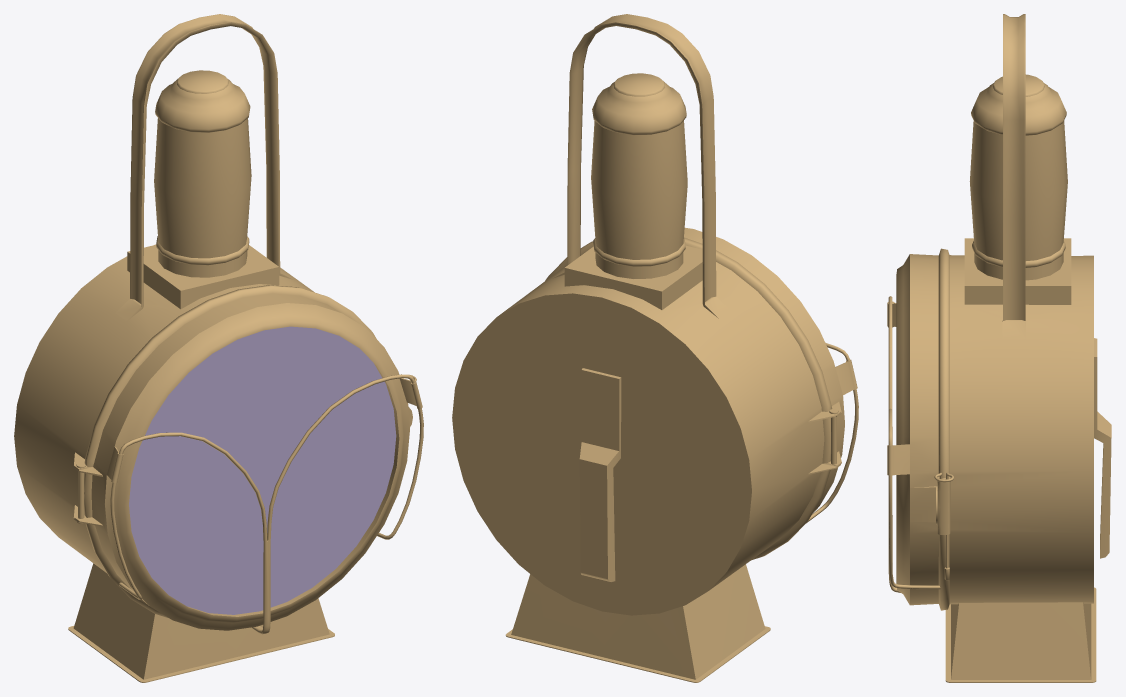
The model's file is lantern19.fbx.
3 views of the same model, side by side, from view 1: azimuth 30°, elevation 25°; view 2: azimuth 150°, elevation 25°; view 3: azimuth 270°, elevation 25° (orthographic).
Visible parts, largest first — view 1: lantern19, lantern19_frontglass; view 2: lantern19; view 3: lantern19.
Part boxes in pixels (<box>): lantern19: <box>14,14,423,682</box>; lantern19_frontglass: <box>129,326,396,614</box>; lantern19: <box>452,14,858,682</box>; lantern19: <box>887,14,1111,682</box>.
Bounding box in the file's own units: 506 × 874 × 290.
